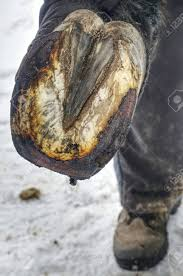horsesole: (10, 30, 141, 180)
